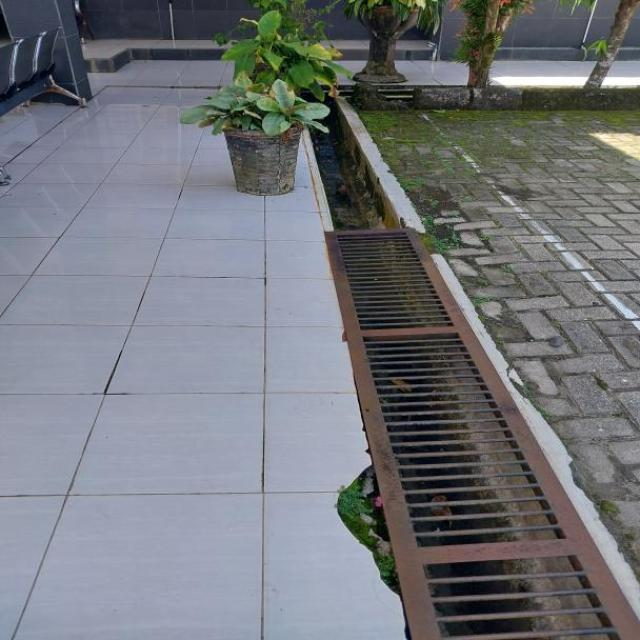plant ahead at: (181, 83, 334, 193)
